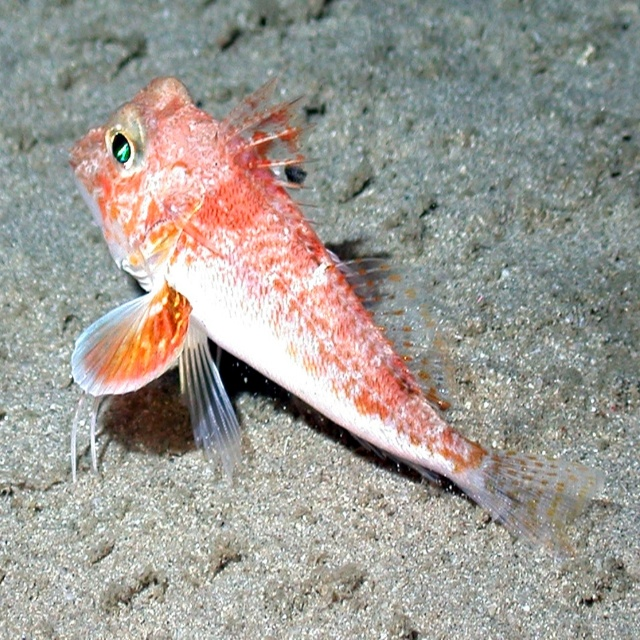Fish: (71, 68, 579, 552)
